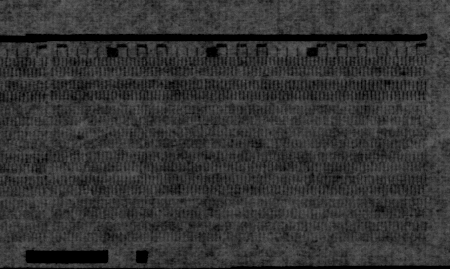Broken hole: (32, 56, 45, 70)
